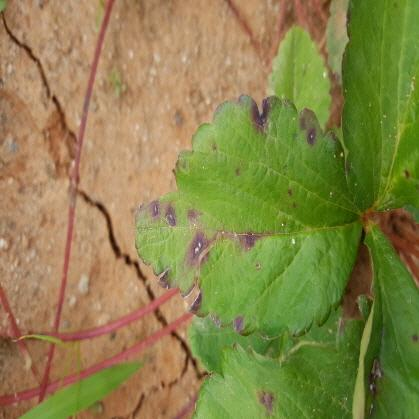Leaf Spot: (133, 94, 363, 338), (190, 294, 372, 418), (339, 0, 418, 210), (354, 219, 418, 418)
